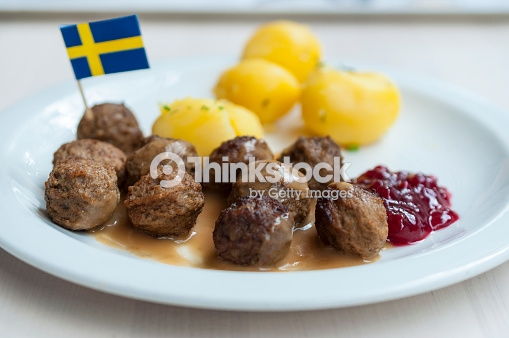boiled potatoes: (225, 66, 400, 128)
meatballs: (52, 153, 167, 225)
